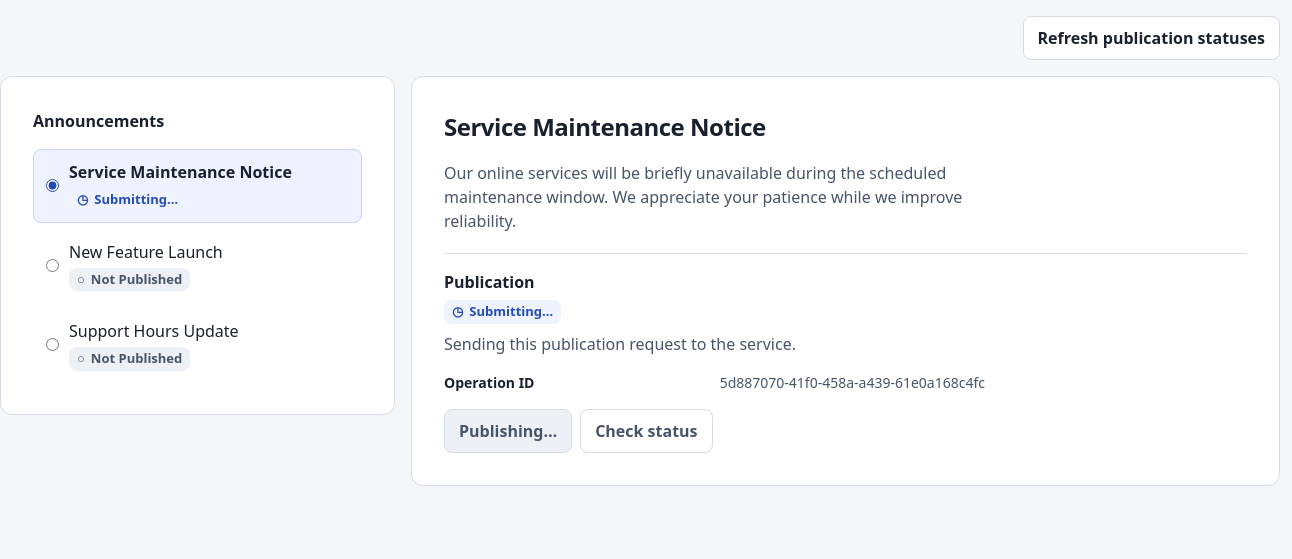
Test: keeps three overlapping publications independent while the selection changes
Earlier steps of the test are not shown.
Later steps or results of the test are not shown.
Click the button "Publishing…" at (508, 430), box x1=444 y1=408 x2=572 y2=452
Click the radio button labelled "New Feature Launch ○ Not Published" at (52, 265), box x1=46 y1=259 x2=59 y2=272
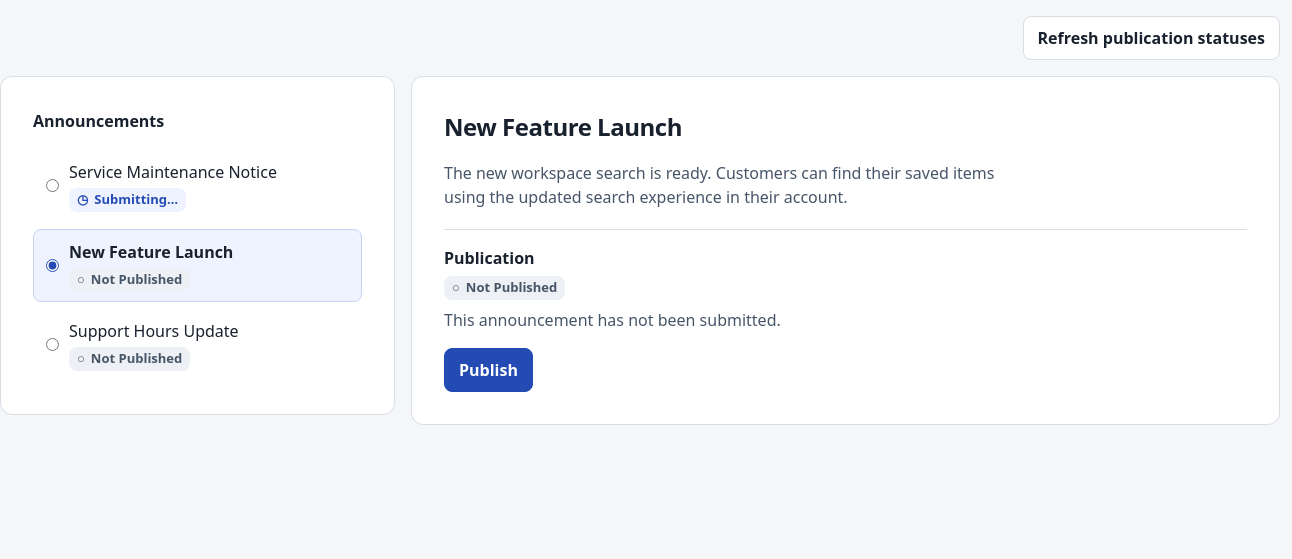
Expected: the radio button labelled "New Feature Launch ○ Not Published" is checked, x1=46 y1=259 x2=59 y2=272
Click the button "Publish" at (488, 370), box x1=444 y1=348 x2=533 y2=392
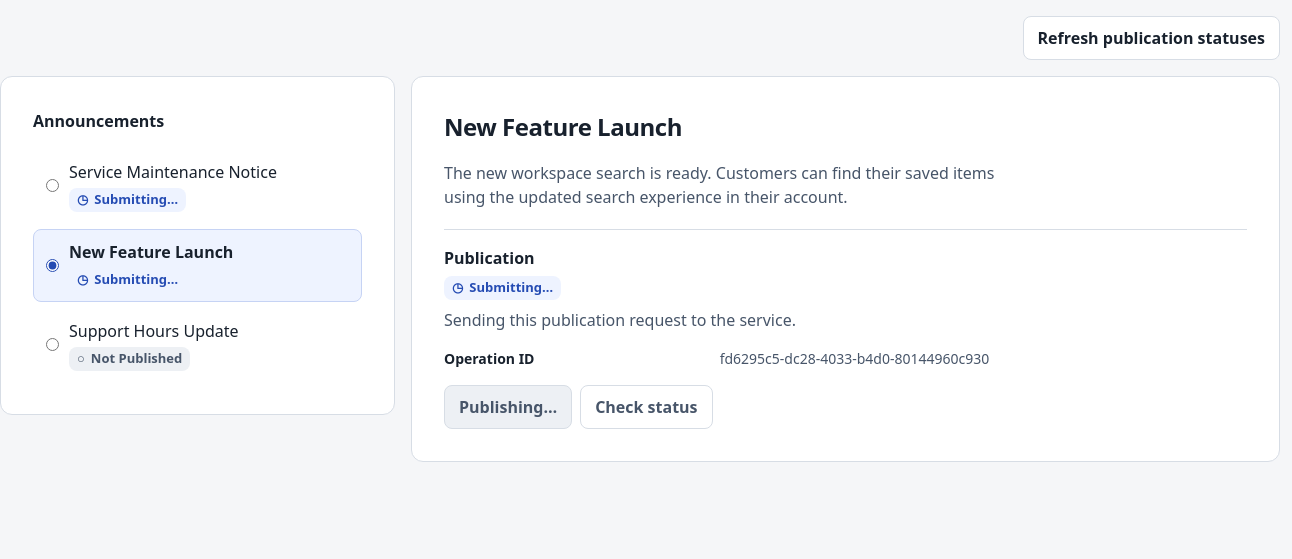
Click the radio button labelled "Support Hours Update ○ Not Published" at (52, 345), box x1=46 y1=338 x2=59 y2=351
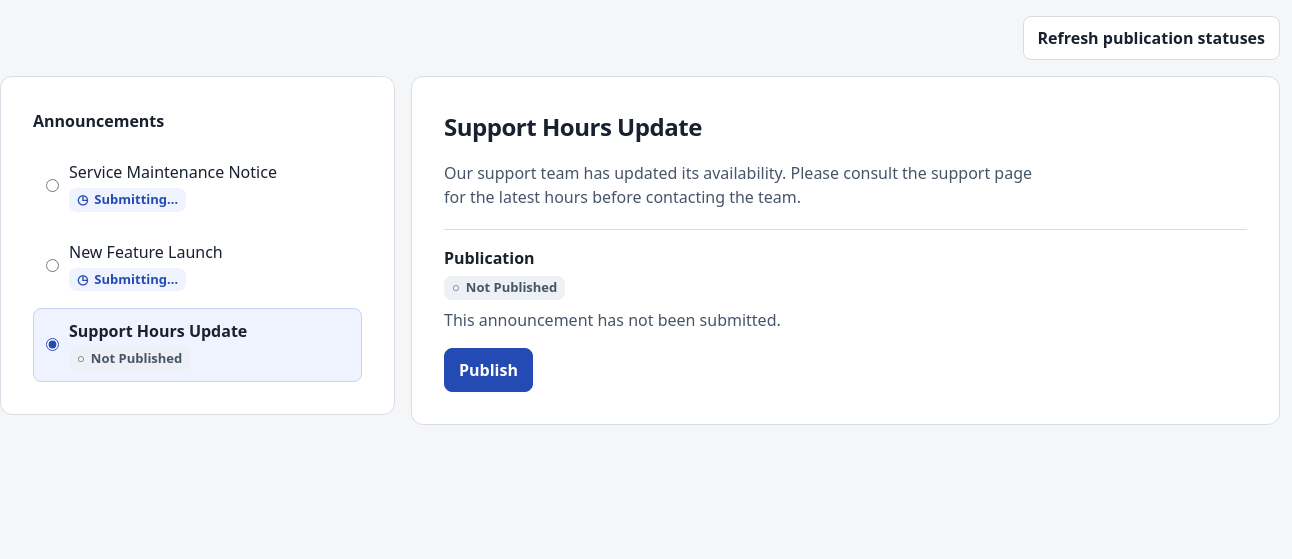
Expected: the radio button labelled "Support Hours Update ○ Not Published" is checked, x1=46 y1=338 x2=59 y2=351
Click the button "Publish" at (488, 370), box x1=444 y1=348 x2=533 y2=392
Wait 2280 ms
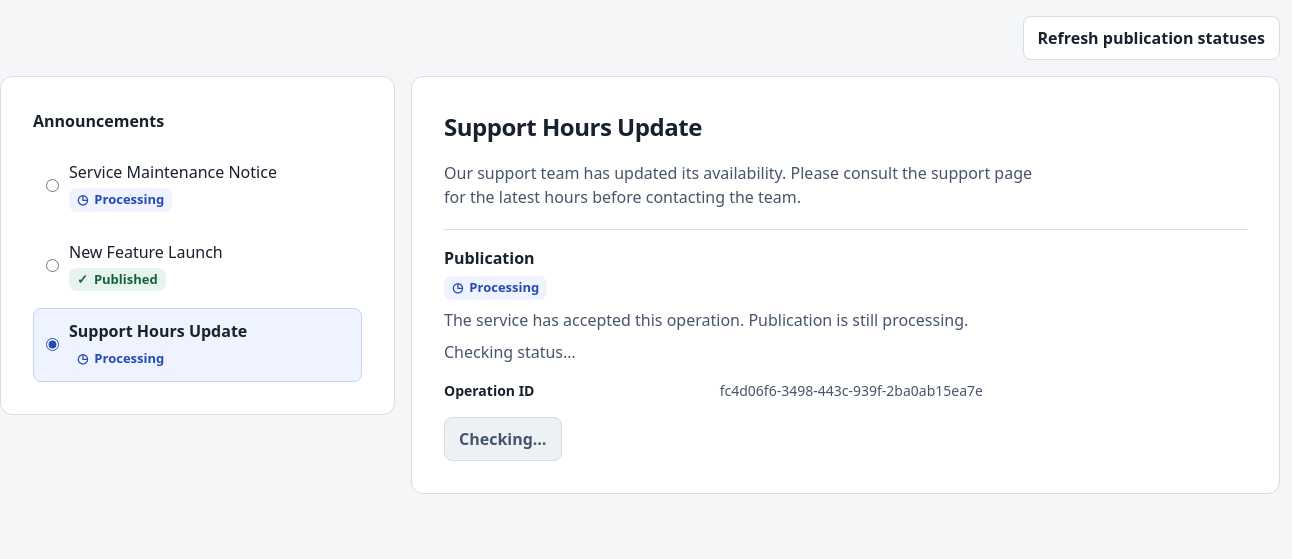
Click the radio button labelled "Service Maintenance Notice ◷ Processing" at (52, 186), box x1=46 y1=179 x2=59 y2=192
Wait 420 ms
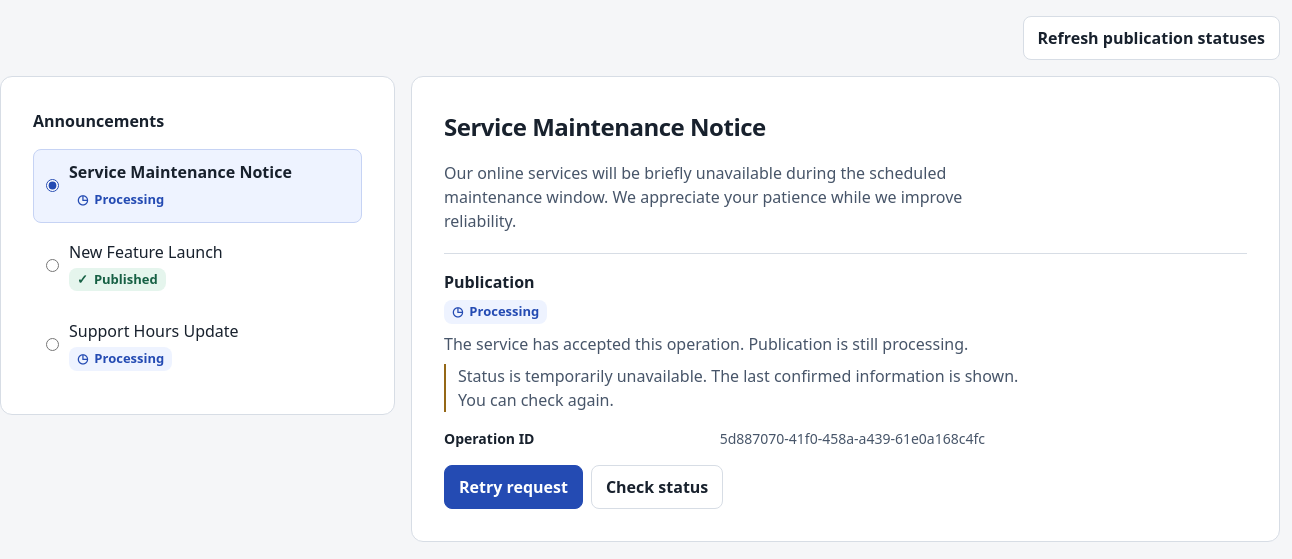
Expected: the message shows "status is temporarily unavailable", x1=458 y1=364 x2=1018 y2=410
Click the radio button labelled "Support Hours Update ◷ Processing" at (52, 345), box x1=46 y1=338 x2=59 y2=351
Wait 8600 ms
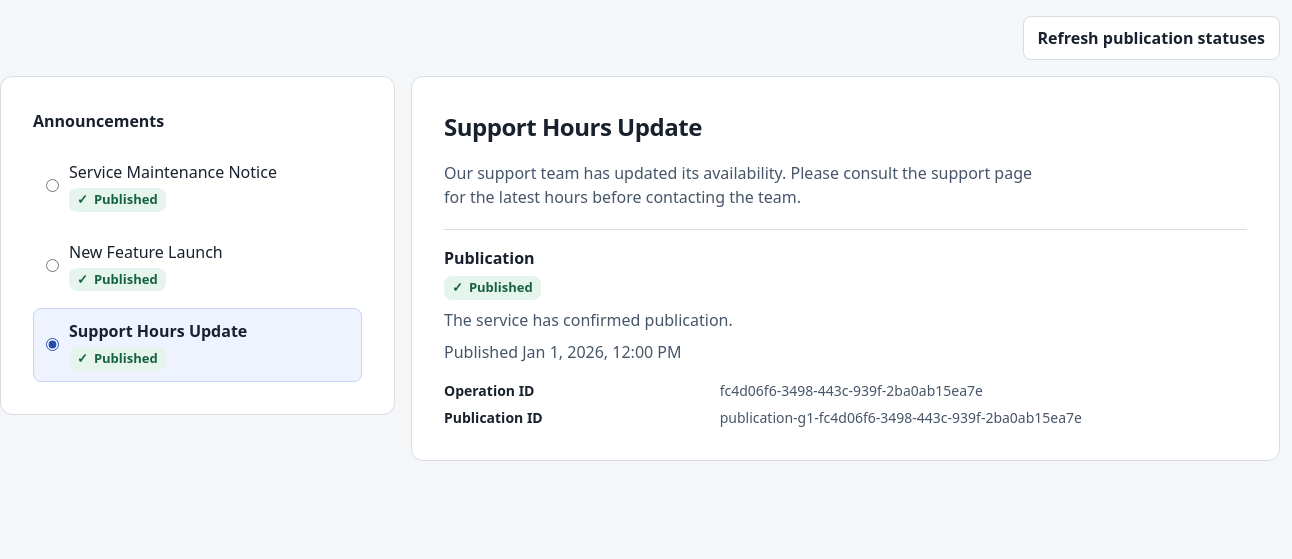
Expected: the message no longer shows "Status is temporarily unavailable", x1=444 y1=276 x2=733 y2=362
